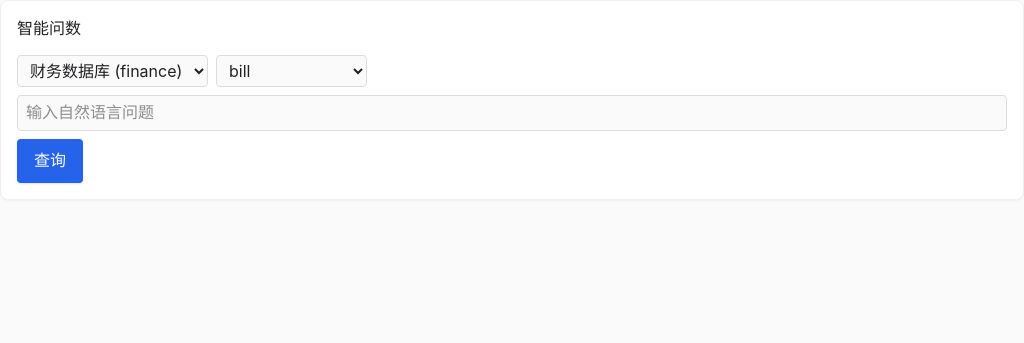
QueryPanel.vue (REQ-052 Task 6 + REQ-054 Task 8 + review fix + BUG-015) › surfaces HTTP errors via in-panel error UI
Type "这企业欠费多少" into the field with placeholder "输入自然语言问题". click: (512, 113)
box: x1=17 y1=95 x2=1007 y2=131
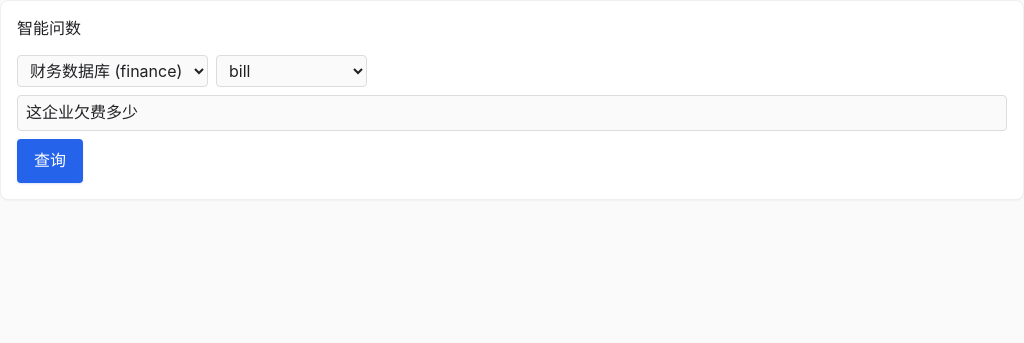
Submit the form, box x1=17 y1=55 x2=1007 y2=183
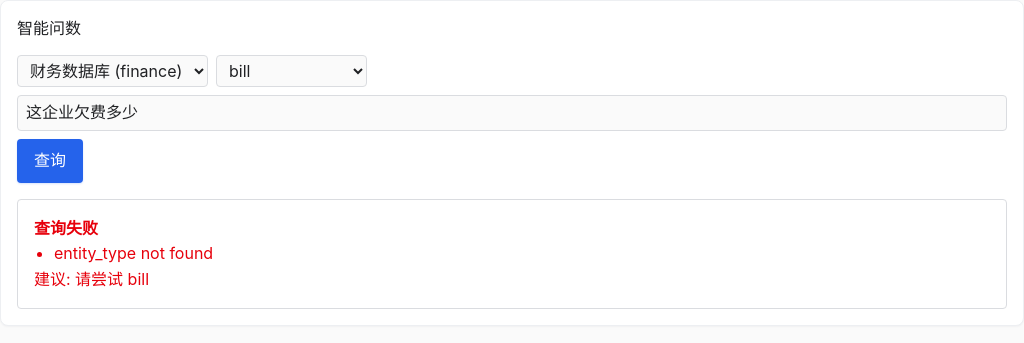
Now the text "查询失败" is shown, box x1=34 y1=218 x2=98 y2=238
Now the text "entity_type not found" is shown, box x1=54 y1=243 x2=213 y2=263
Now the text "请尝试 bill" is shown, box x1=34 y1=269 x2=149 y2=289
